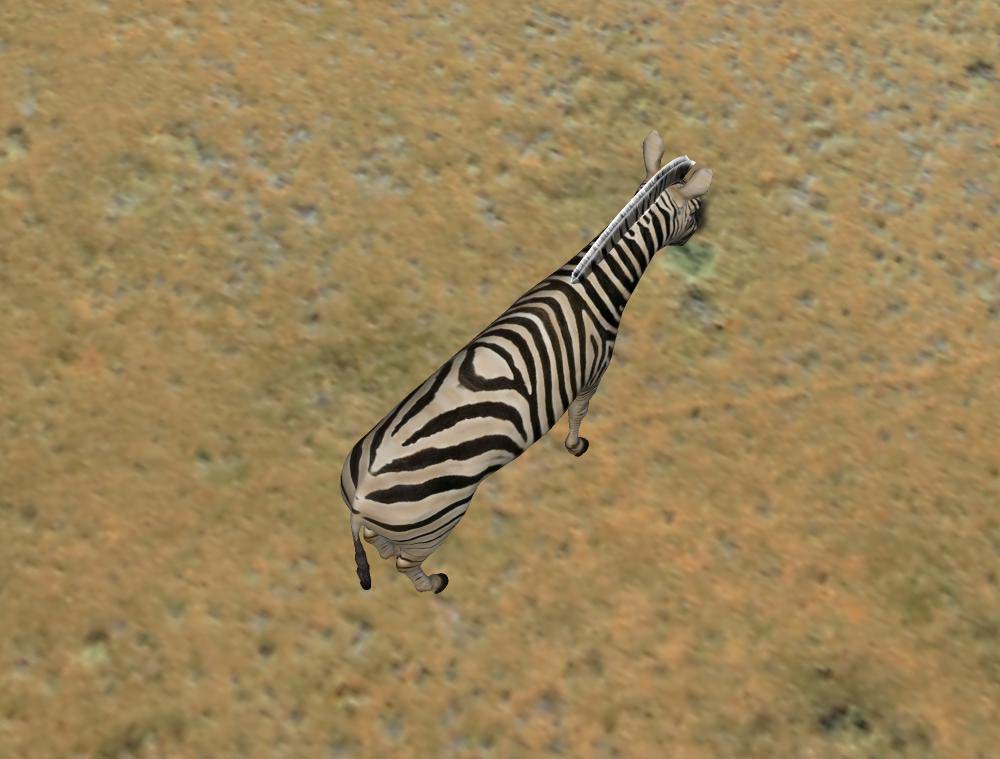zebra: (337, 127, 717, 602)
